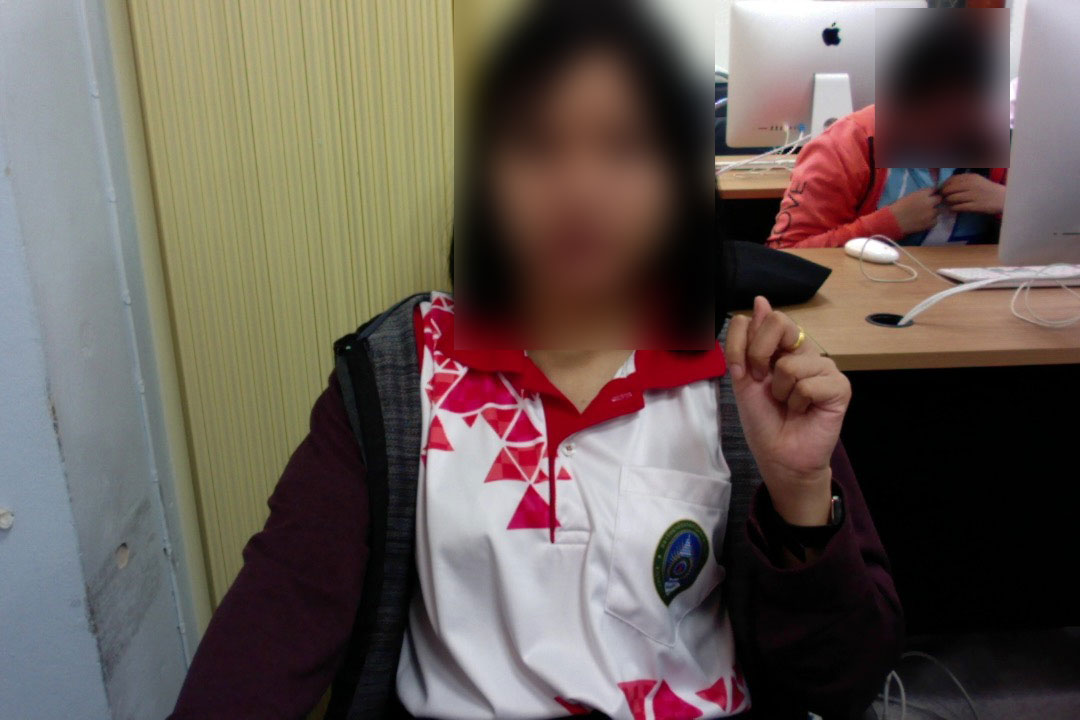tor: (724, 291, 855, 521)
